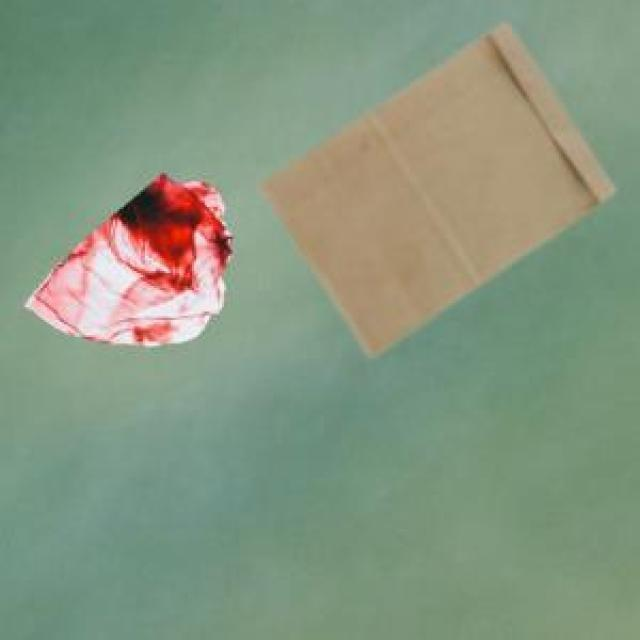paper: (256, 19, 610, 352)
